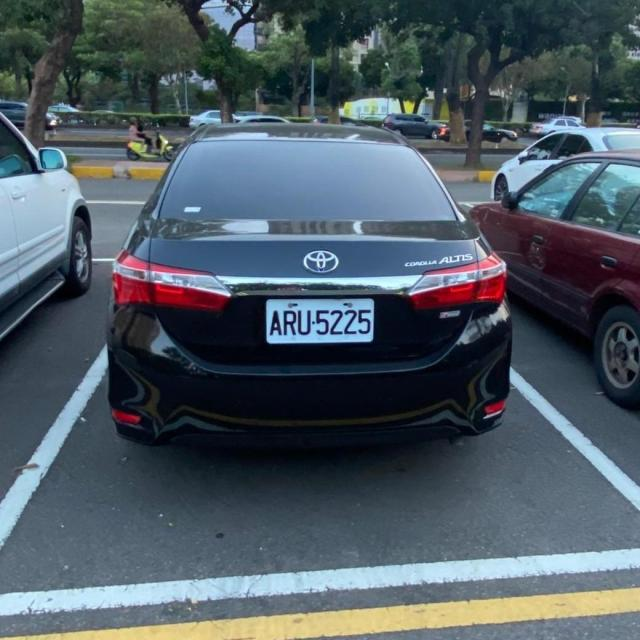W: (261, 294, 378, 348)
